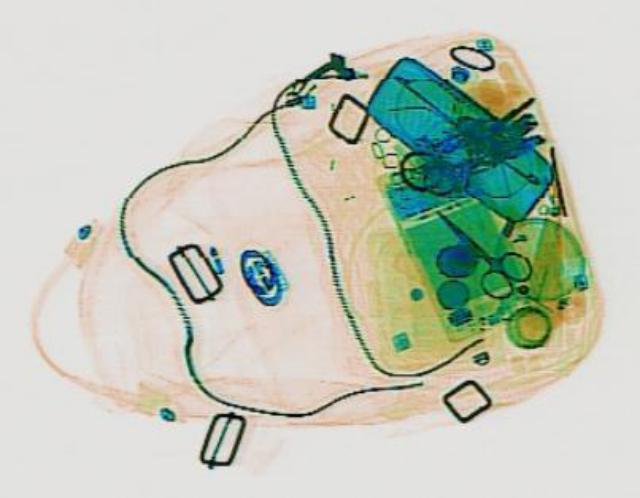Scissors: (408, 195, 542, 301)
